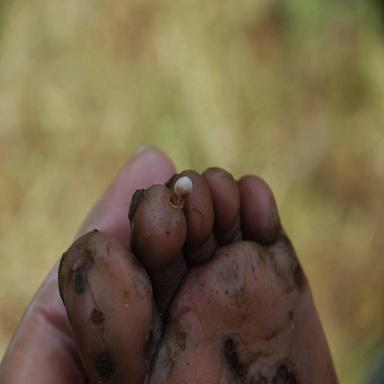Tungiasis: (168, 176, 193, 209)
